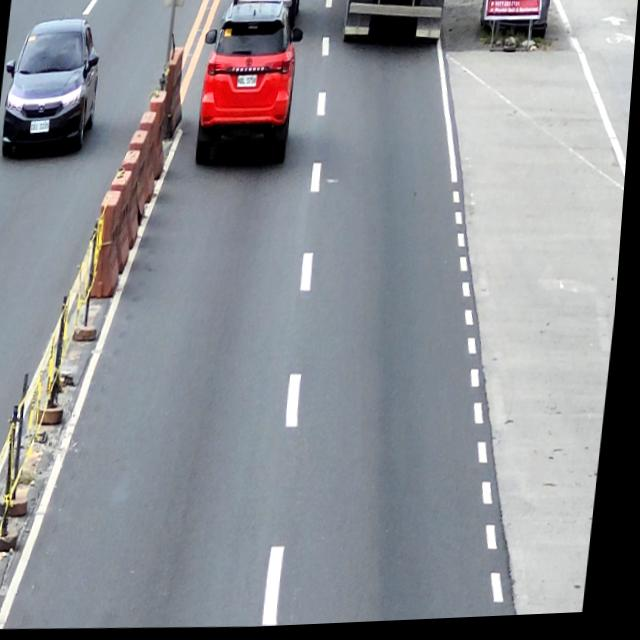Car: (193, 1, 307, 173), (0, 16, 105, 160)
License-Plate: (31, 120, 52, 135), (237, 76, 259, 90)
